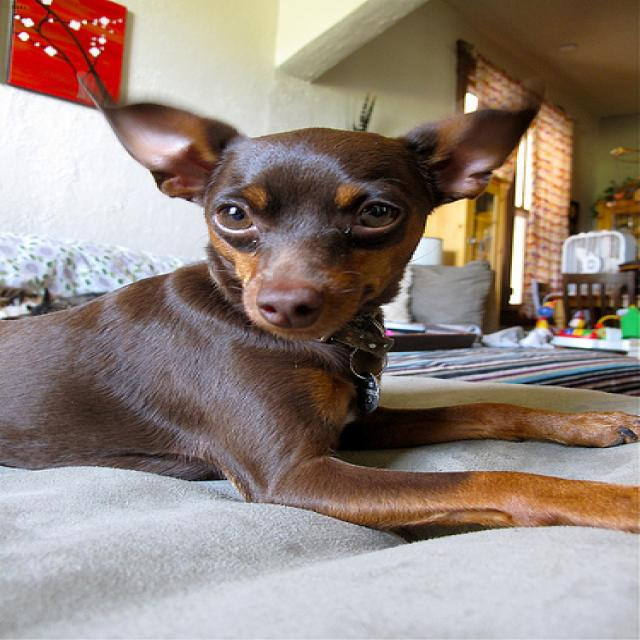dog-miniature_pinscher: (2, 69, 637, 545)
